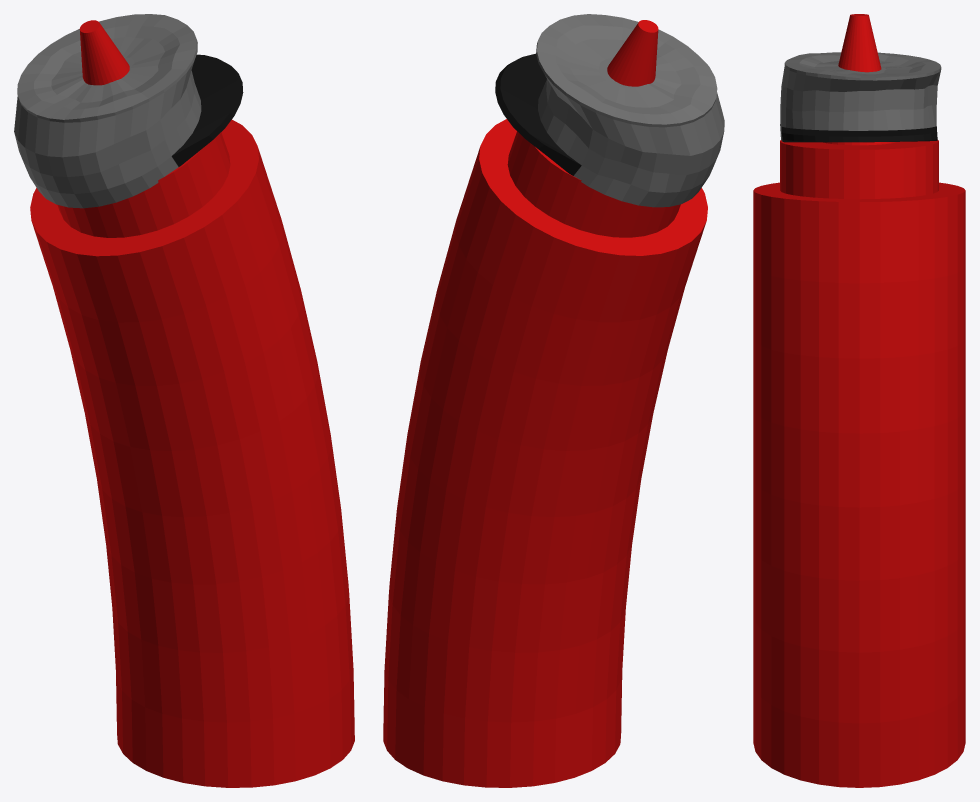
Rendered from KetchupBottleShouting.fbx.
3 renders of one model, left to right at view 1: azimuth 30°, elevation 25°; view 2: azimuth 150°, elevation 25°; view 3: azimuth 270°, elevation 25°, orthographic. The views are drawn at different scales.
Parts seen in each view (by area): view 1: Bottle, Hat; view 2: Bottle, Hat; view 3: Bottle, Hat.
Boxes of the visible parts, bbox=[...] form: Bottle: bbox=[30, 20, 354, 787]; Hat: bbox=[14, 14, 243, 208]; Bottle: bbox=[383, 20, 707, 787]; Hat: bbox=[495, 14, 724, 207]; Bottle: bbox=[753, 14, 965, 787]; Hat: bbox=[780, 52, 941, 142].
Size of the model in its own units: 304 by 694 by 200.
